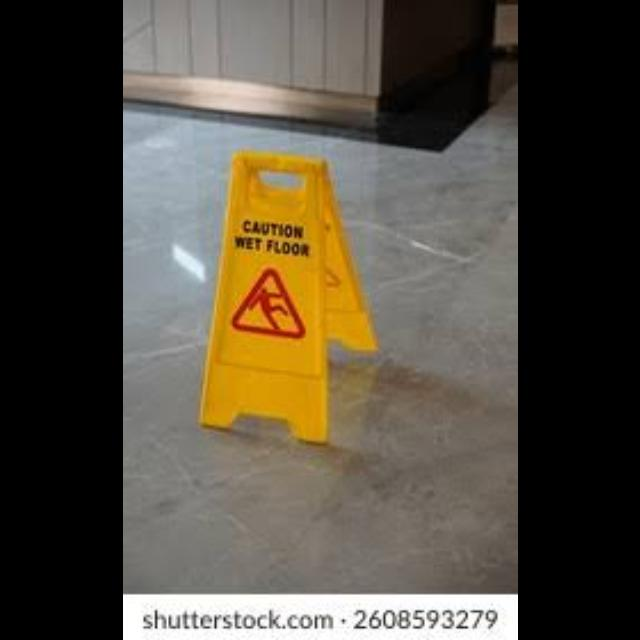slippery_floor: (200, 155, 373, 439)
